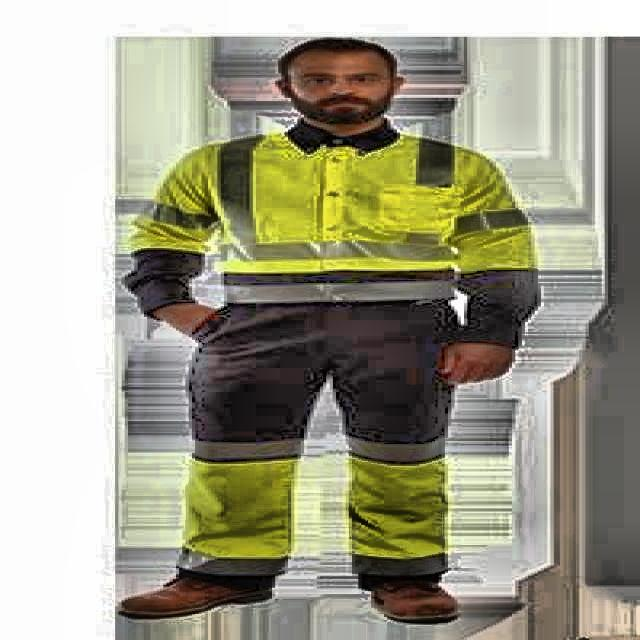safety_jacket: (182, 120, 554, 284)
